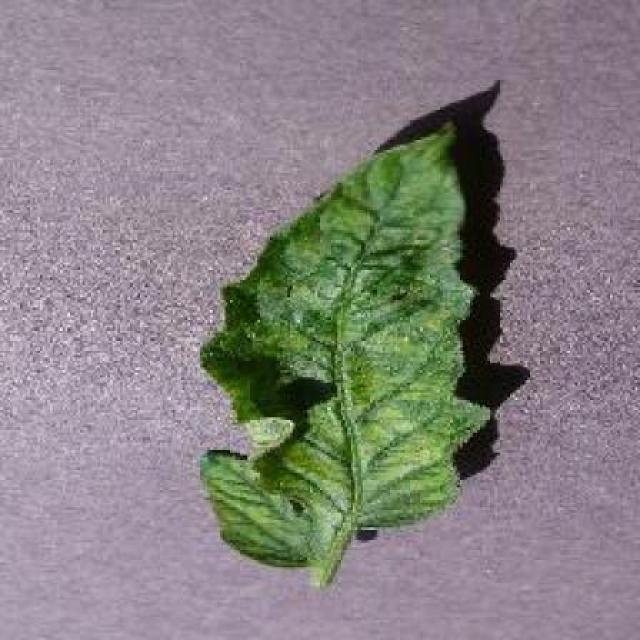Mosaic Virus: (196, 121, 494, 568)
